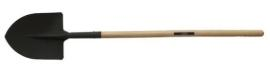PELLE: (3, 10, 270, 74)
